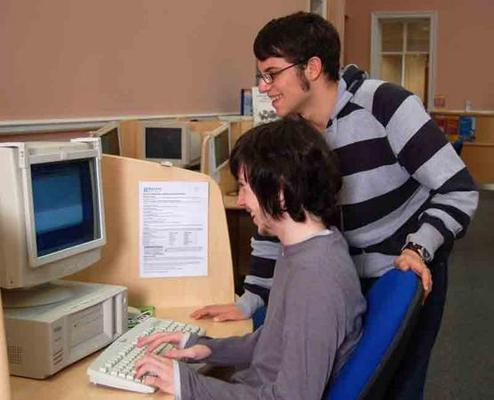person: (134, 118, 368, 400)
